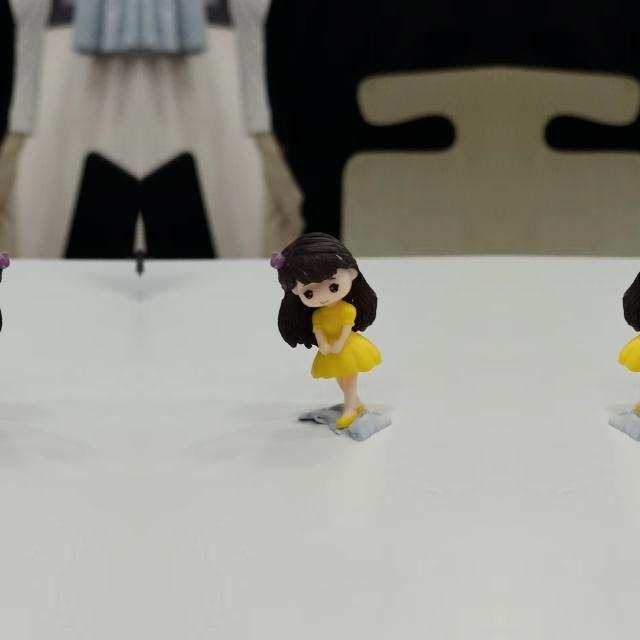woman head: (273, 232, 359, 314), (0, 231, 7, 314)
